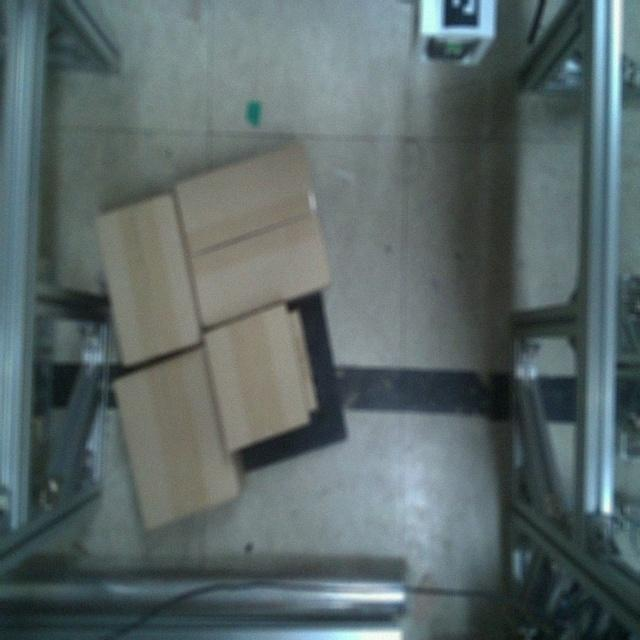box: (171, 136, 335, 332), (110, 341, 244, 534), (91, 190, 206, 371), (200, 299, 314, 453)
